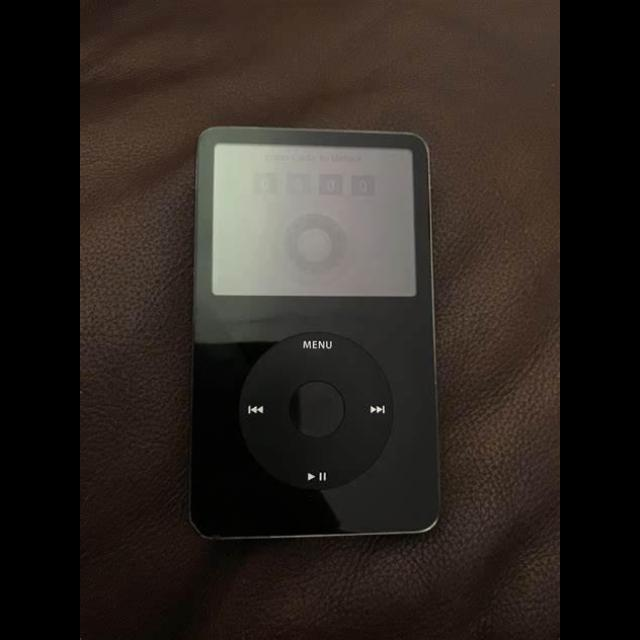Music-Player: (184, 119, 458, 554)
